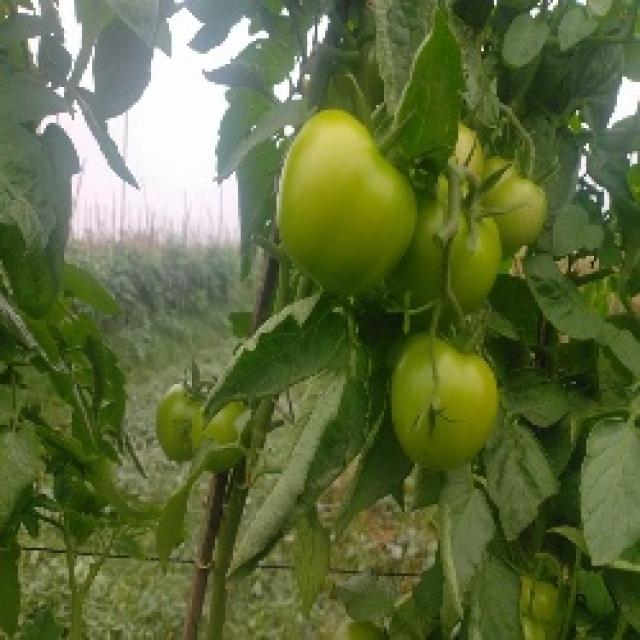tomato: (274, 109, 410, 289), (397, 334, 507, 470), (448, 189, 503, 316), (482, 154, 547, 254), (153, 370, 201, 453), (199, 411, 252, 468), (523, 573, 564, 635), (446, 121, 490, 178), (423, 196, 447, 300), (332, 616, 387, 640)
